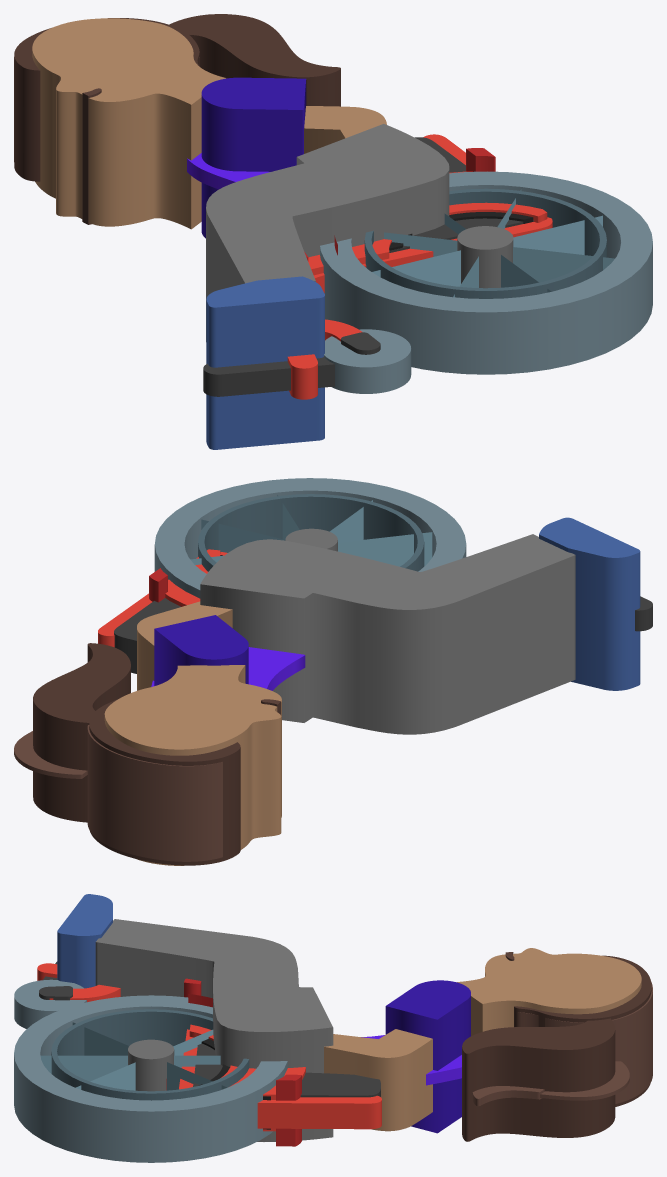
The model's file is emoji_u1f469_1f3fd_200d_1f9bd.glb.
The picture shows the model from 3 angles, top to bottom: view 1: azimuth 30°, elevation 25°; view 2: azimuth 150°, elevation 25°; view 3: azimuth 270°, elevation 25°; orthographic projection. The views are drawn at different scales.
Parts seen in each view (by area): view 1: emoji_u1f469_1f3fd_200d_1f9bd; view 2: emoji_u1f469_1f3fd_200d_1f9bd; view 3: emoji_u1f469_1f3fd_200d_1f9bd.
Part boxes in pixels (x1,y1,x2,y2): emoji_u1f469_1f3fd_200d_1f9bd: (14,14,652,449); emoji_u1f469_1f3fd_200d_1f9bd: (14,478,652,865); emoji_u1f469_1f3fd_200d_1f9bd: (14,894,652,1162).
Size of the model in its own units: 0.022 by 0.0064 by 0.0316.
